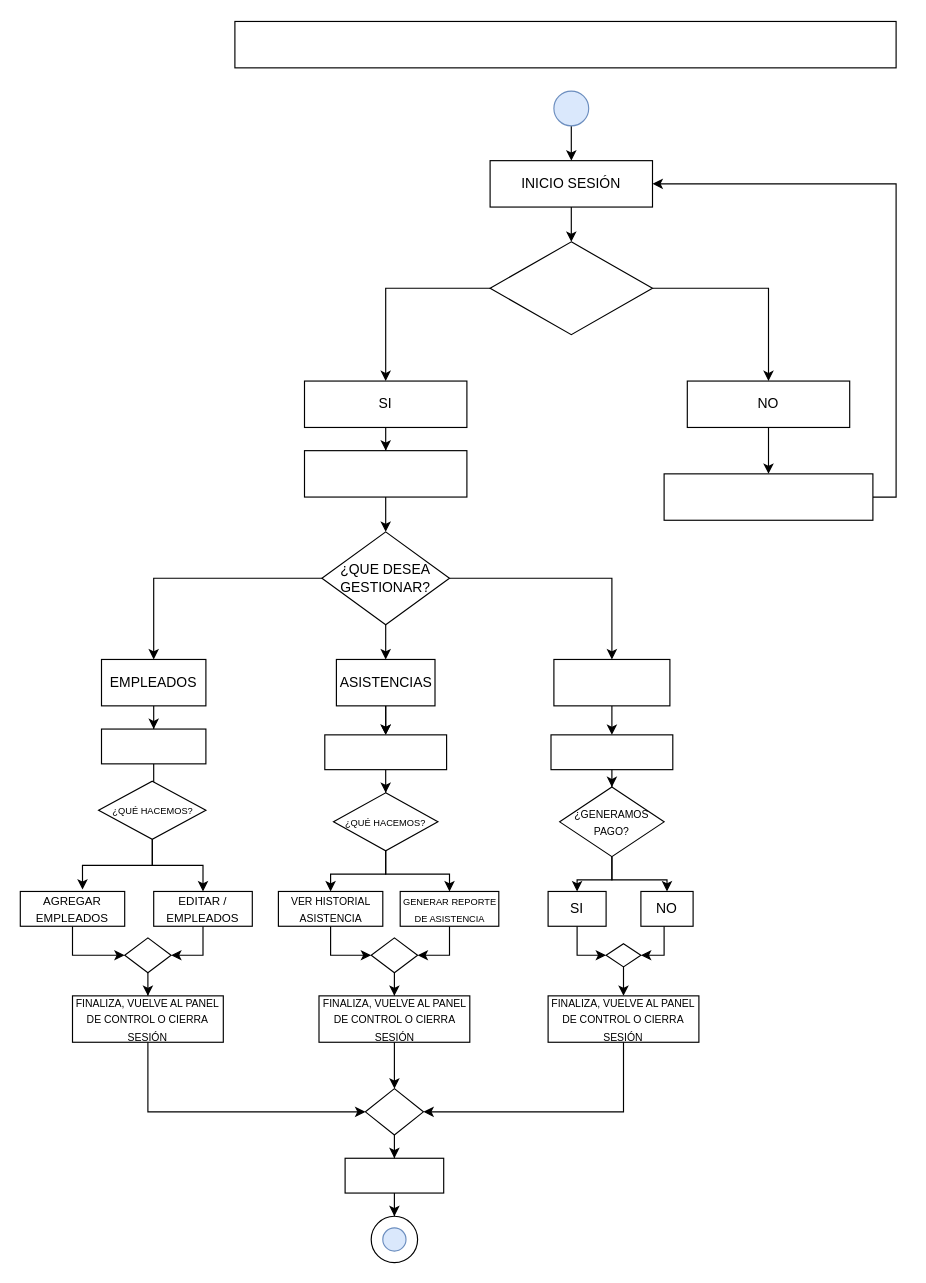
This 926x1283 diagram has some shape labels left out. The box of each missing label's shape, as (x1, y1, x2, y2) in pixels:
ACCEDE AL PANEL DE CONTROL: (303, 449, 467, 497)
CALCULO DE LIQUIDACIÓN: (550, 734, 673, 770)
CERRAR SESIÓN: (344, 1157, 444, 1193)
DIAGRAMA DE FLUJO SISTEMA: (234, 20, 896, 68)
LIQUIDACIONES: (553, 658, 670, 706)
LISTA EMPLEADOS: (100, 728, 206, 764)
REGISTAR ASISTENCIA EMPLEADOS: (324, 734, 447, 770)
SE MUESTRA UN MENSAJE DE ERROR Y REGRES AL INICIO DE SESIÓN: (663, 473, 873, 520)
¿ES VALIDO EL USUARIO?: (489, 241, 652, 335)
